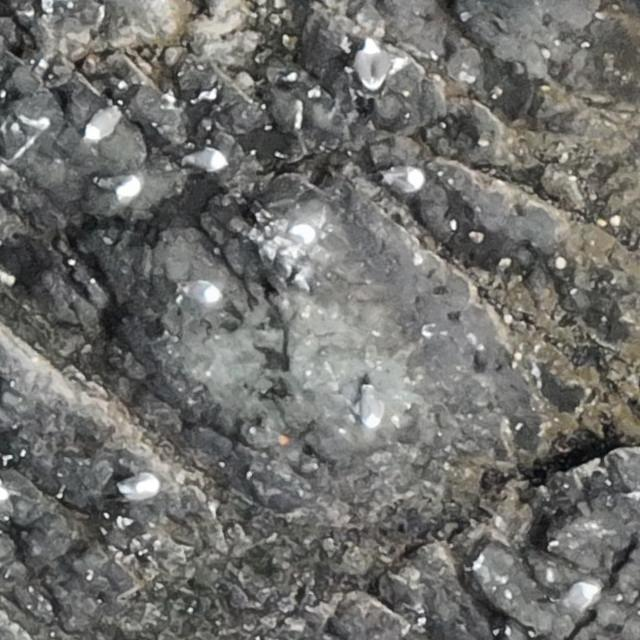umineko: (354, 40, 390, 94), (548, 580, 601, 611), (381, 164, 425, 196), (88, 106, 122, 142), (359, 382, 384, 430), (117, 473, 160, 500), (176, 281, 222, 304), (186, 149, 230, 170), (100, 178, 146, 197)
